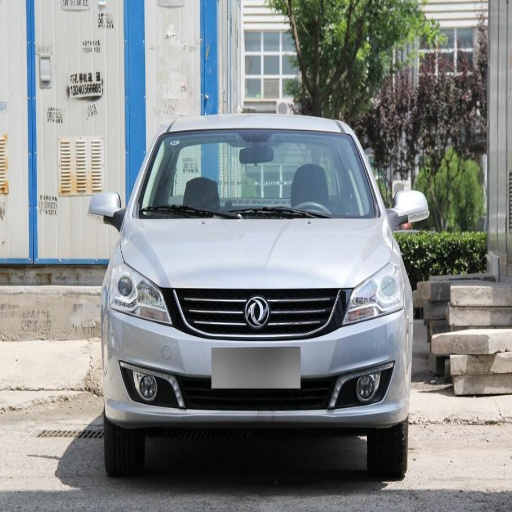front_bumper: (108, 287, 409, 426)
front_right_light: (110, 264, 171, 325)
hood: (122, 216, 392, 290)
left_mirror: (391, 190, 429, 229)
